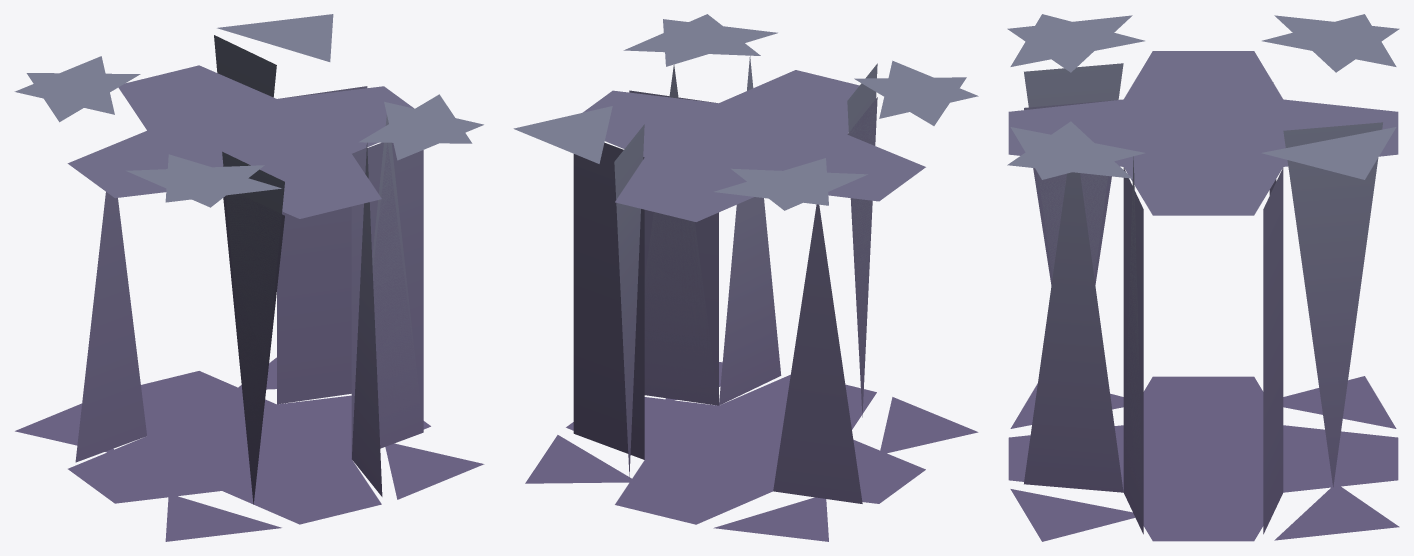
File: coast_rocks_01_LOD2.glb
3 views of the same model, side by side, from view 1: azimuth 30°, elevation 25°; view 2: azimuth 150°, elevation 25°; view 3: azimuth 270°, elevation 25° (orthographic). The views are drawn at different scales.
Visible parts, largest first — view 1: rocks-high; view 2: rocks-high; view 3: rocks-high.
Boxes of the visible parts, x1,y1,x2,y2 form: rocks-high: (14, 14, 484, 541); rocks-high: (513, 14, 978, 541); rocks-high: (1007, 14, 1399, 541).
Size of the model in its own units: 1.28 by 1.3 by 1.28.
Materials: 1 (1 with a texture image).
